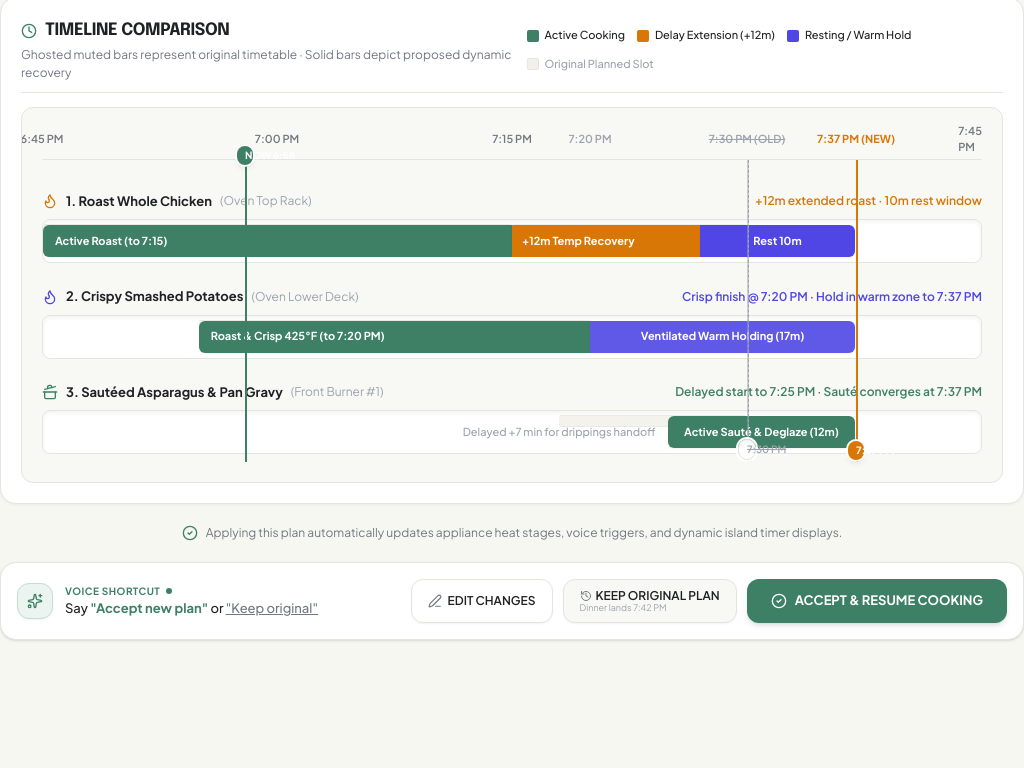
Scenario: UI: RePlanScreen Component › opens and adjusts recovery window in Edit Changes modal
The width and height of the screenshot is (1024, 768).
(page scrolled)
Click the button "EDIT CHANGES": click(482, 601) 411,579 -> 552,623
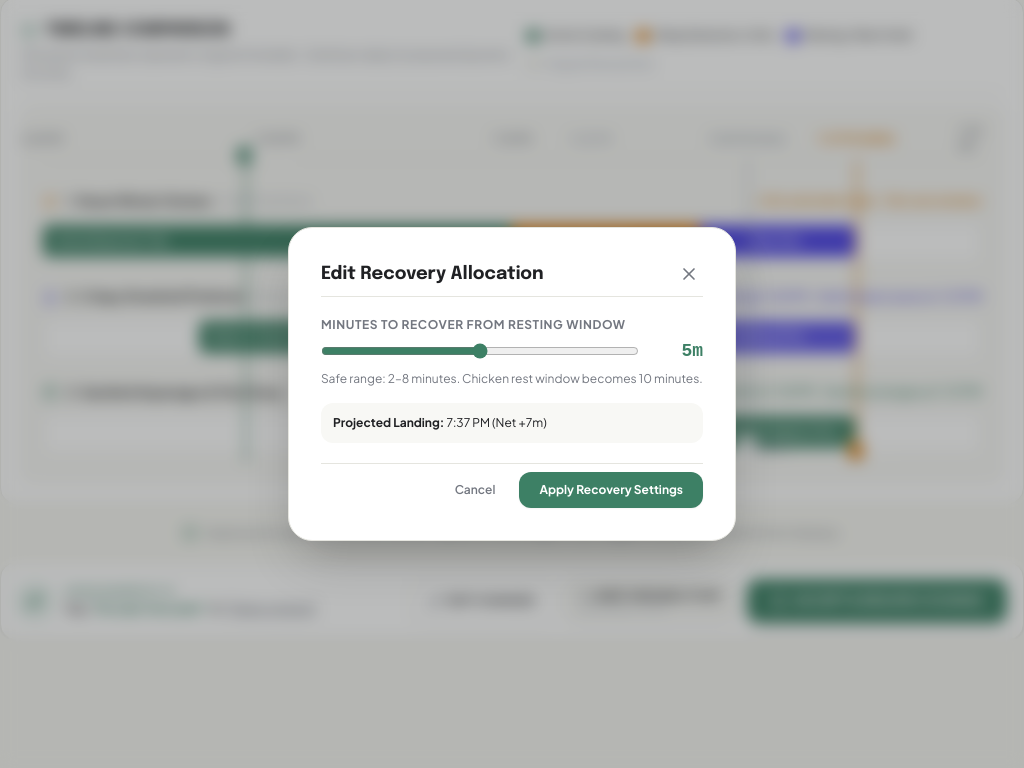
Now the heading "Edit Recovery Allocation" is shown, box 321,260 -> 544,288
# Adjust range input
Set the slider to "6": (530, 351) 321,343 -> 639,359
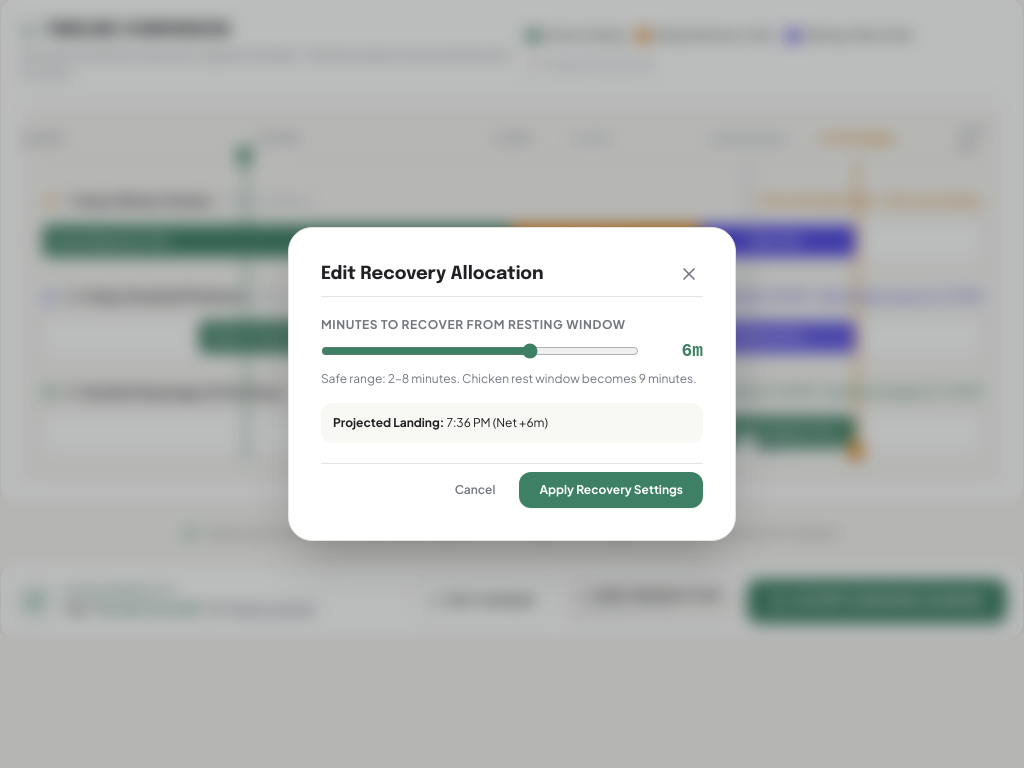
# Apply button
Click the button "Apply Recovery Settings": click(611, 490) 519,472 -> 703,508
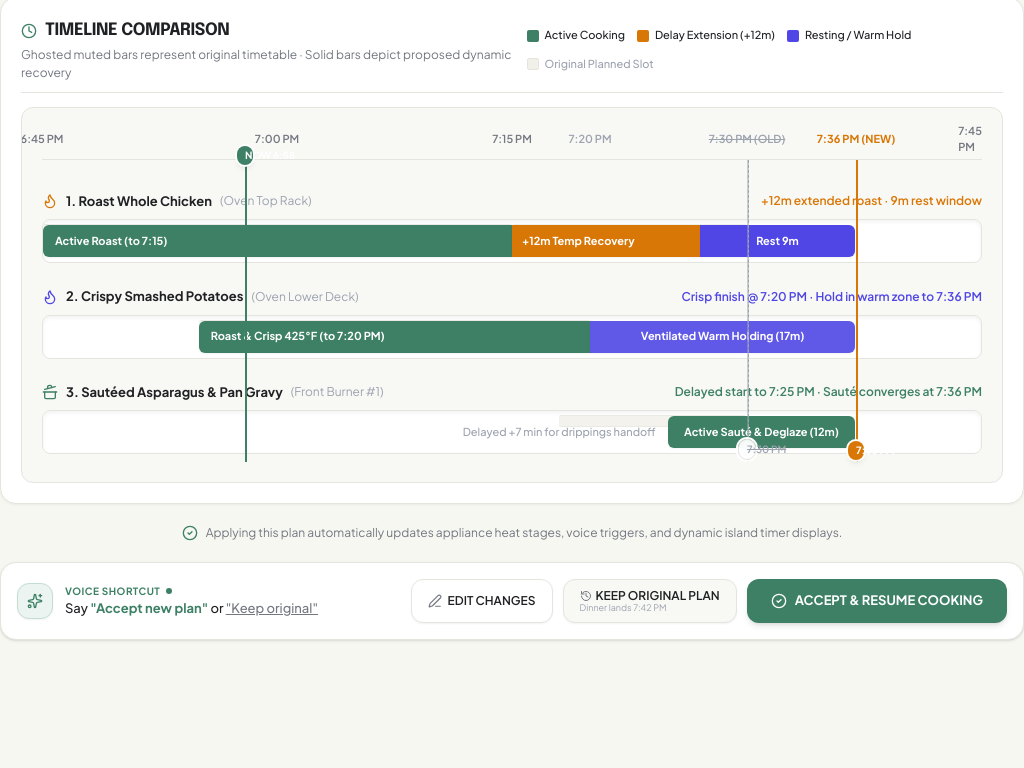
Now the heading "Edit Recovery Allocation" is gone
